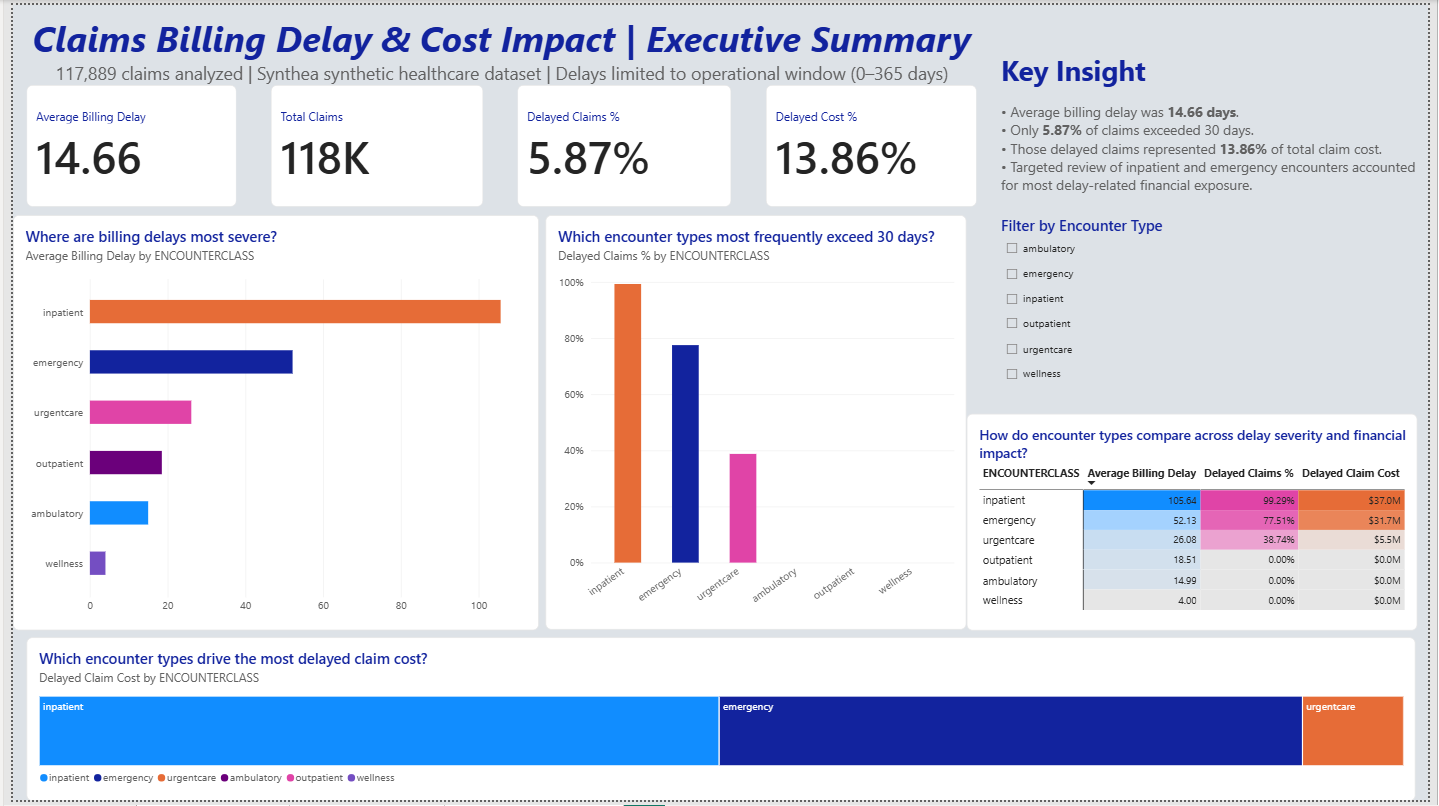

The page's visual inventory and layout, read from the dashboard file:
{"tool":"powerbi","page":{"name":"Executive Summary","canvas":[1920,1080],"ordinal":0},"visuals":[{"type":"cardVisual","title":"Average Billing Delay","fields":{"Data":["Measures (2).Average Billing Delay"]},"box":[18.3,108.3,285,165],"z":0},{"type":"cardVisual","fields":{"Data":["Measures (2).Total Claims"]},"box":[350,108.3,288.3,165],"z":1000},{"type":"cardVisual","fields":{"Data":["Measures (2).Delayed Claims %"]},"box":[685,108.3,290,165],"z":2000},{"type":"cardVisual","fields":{"Data":["Measures (2).Delayed Cost %"]},"box":[1021.7,108.3,286.7,165],"z":3000},{"type":"clusteredBarChart","title":"Where are billing delays most severe?","fields":{"Category":["12_Billing_Delay_Detail.ENCOUNTERCLASS"],"Y":["Measures (2).Average Billing Delay"]},"box":[0,285,713.3,563.3],"z":4000},{"type":"slicer","title":"Filter by Encounter Type","fields":{"Values":["12_Billing_Delay_Detail.ENCOUNTERCLASS"]},"box":[1340,285.7,351.4,268.6],"z":5000},{"type":"treemap","title":"Which encounter types drive the most delayed claim cost?","fields":{"Group":["12_Billing_Delay_Detail.ENCOUNTERCLASS"],"Values":["Measures (2).Delayed Claim Cost"]},"box":[18.3,858.3,1885,221.7],"z":6000},{"type":"clusteredColumnChart","title":"Which encounter types most frequently exceed 30 days?","fields":{"Category":["12_Billing_Delay_Detail.ENCOUNTERCLASS"],"Y":["Measures (2).Delayed Claims %"]},"box":[722.9,285.7,571.4,562.9],"z":7000},{"type":"textbox","box":[1340,61.7,563.3,211.7],"z":8000},{"type":"textbox","box":[18.3,11.7,1290,98.3],"z":9000},{"type":"pivotTable","title":"How do encounter types compare across delay severity and financial impact?","fields":{"Rows":["12_Billing_Delay_Detail.ENCOUNTERCLASS"],"Values":["Measures (2).Average Billing Delay","Measures (2).Delayed Claims %","Measures (2).Delayed Claim Cost"]},"box":[1294.3,554.3,611.4,294.3],"z":10000}]}

Visuals, with their boxes in screenshot pixels (x1, y1, x2, y2), scaled from the page's 1920x1080 canvas onto the 1439x806 screenshot:
"Average Billing Delay" cardVisual: [14,81,227,204]
cardVisual - Measures (2).Total Claims: [262,81,478,204]
cardVisual - Measures (2).Delayed Claims %: [513,81,731,204]
cardVisual - Measures (2).Delayed Cost %: [766,81,981,204]
"Where are billing delays most severe?" clusteredBarChart: [0,213,535,633]
"Filter by Encounter Type" slicer: [1004,213,1268,414]
"Which encounter types drive the most delayed claim cost?" treemap: [14,641,1426,805]
"Which encounter types most frequently exceed 30 days?" clusteredColumnChart: [542,213,970,633]
textbox: [1004,46,1426,204]
textbox: [14,9,981,82]
"How do encounter types compare across delay severity and financial impact?" pivotTable: [970,414,1428,633]
